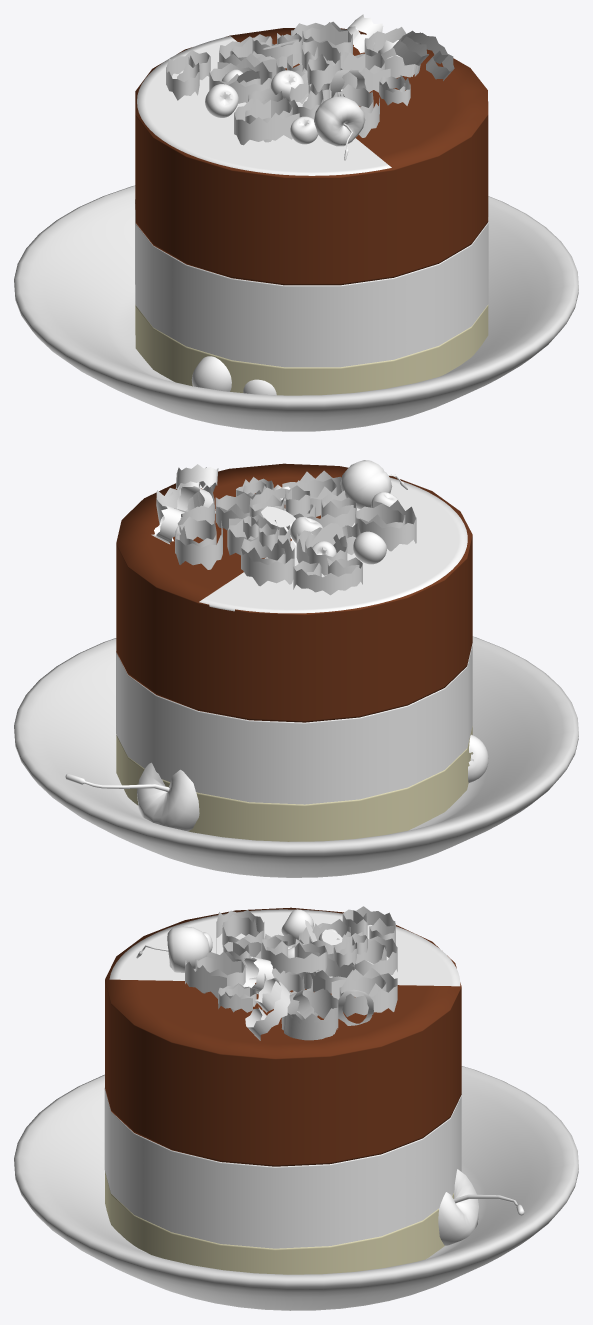
Rendered from gateau1.glb.
3 renders of one model, top to bottom at view 1: azimuth 30°, elevation 25°; view 2: azimuth 150°, elevation 25°; view 3: azimuth 270°, elevation 25°, orthographic.
Parts seen in each view (by area): view 1: Circle.002, Circle.032, Circle.001, Circle.003, Circle, Plane.019, Cherry 2.001, Plane.022, Plane.012, Plane.013, Plane.003, Plane.023 (+12 smaller); view 2: Circle.002, Circle.032, Circle.001, Circle, Circle.003, cherry 3, Plane.019, Plane.009, Plane.012, Plane.008, Cherry 2.001, Plane.013 (+11 smaller); view 3: Circle.002, Circle.032, Circle.001, Circle, Circle.003, cherry 3, Plane.008, Plane.021, Plane.010, Plane.013, Cherry 2.001, Plane.022 (+12 smaller).
Boxes of the visible parts, x1=… form: Circle.002: x1=135, y1=28, x2=488, y2=285; Circle.032: x1=14, y1=185, x2=578, y2=431; Circle.001: x1=135, y1=199, x2=488, y2=367; Circle.003: x1=137, y1=36, x2=391, y2=175; Circle: x1=135, y1=304, x2=488, y2=395; Plane.019: x1=234, y1=98, x2=299, y2=145; Cherry 2.001: x1=314, y1=96, x2=365, y2=160; Plane.022: x1=393, y1=30, x2=454, y2=80; Plane.012: x1=166, y1=50, x2=210, y2=100; Plane.013: x1=301, y1=40, x2=340, y2=91; Plane.003: x1=209, y1=57, x2=272, y2=103; Plane.023: x1=328, y1=52, x2=390, y2=92; Circle.002: x1=116, y1=463, x2=472, y2=722; Circle.032: x1=14, y1=636, x2=578, y2=877; Circle.001: x1=116, y1=643, x2=472, y2=804; Circle: x1=116, y1=726, x2=472, y2=841; Circle.003: x1=199, y1=477, x2=467, y2=613; cherry 3: x1=65, y1=762, x2=199, y2=831; Plane.019: x1=355, y1=500, x2=416, y2=551; Plane.009: x1=241, y1=538, x2=294, y2=586; Plane.012: x1=293, y1=557, x2=362, y2=595; Plane.008: x1=175, y1=516, x2=222, y2=569; Cherry 2.001: x1=340, y1=460, x2=407, y2=509; Plane.013: x1=249, y1=485, x2=310, y2=518; Circle.002: x1=105, y1=907, x2=461, y2=1166; Circle.032: x1=14, y1=1066, x2=578, y2=1310; Circle.001: x1=104, y1=1088, x2=461, y2=1248; Circle: x1=105, y1=1172, x2=453, y2=1274; Circle.003: x1=109, y1=909, x2=460, y2=986; cherry 3: x1=438, y1=1169, x2=524, y2=1245; Plane.008: x1=331, y1=967, x2=397, y2=1016; Plane.021: x1=281, y1=988, x2=338, y2=1040; Plane.010: x1=185, y1=951, x2=245, y2=998; Plane.013: x1=261, y1=936, x2=327, y2=973; Cherry 2.001: x1=136, y1=926, x2=209, y2=972; Plane.022: x1=245, y1=978, x2=290, y2=1040.
Size of the model in its own units: 0.1672 by 0.102 by 0.1672.
